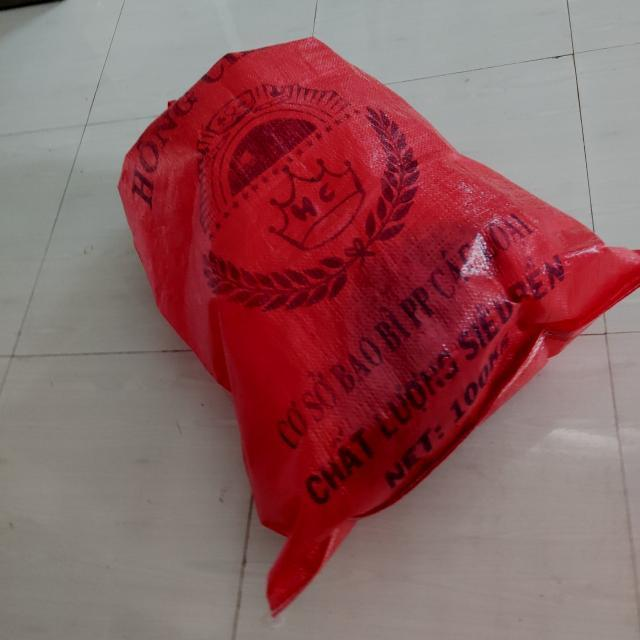gunny_bag: (118, 37, 640, 615)
